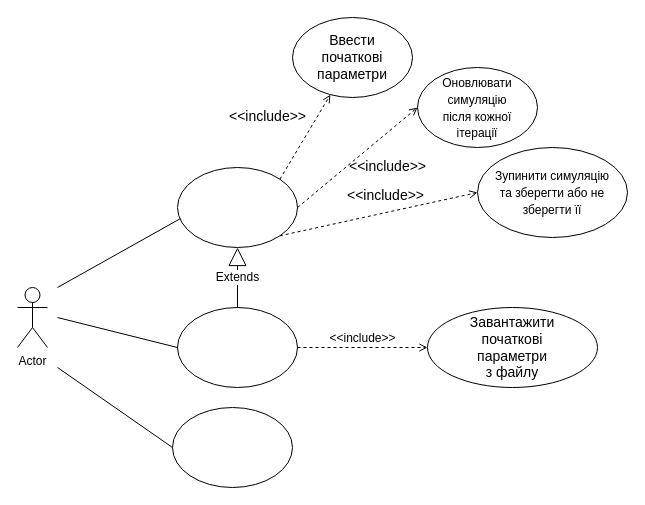
The diagram is 645 pixels wide and 505 high, and some of its shapes have lost their labels. The centre of each missing label's shape, as x and y in pixels:
"Завершити роботу програми" belongs at point (232, 447).
"Запустити збережену симуляцію" belongs at point (237, 347).
"Запустити нову симуляцію" belongs at point (237, 207).
